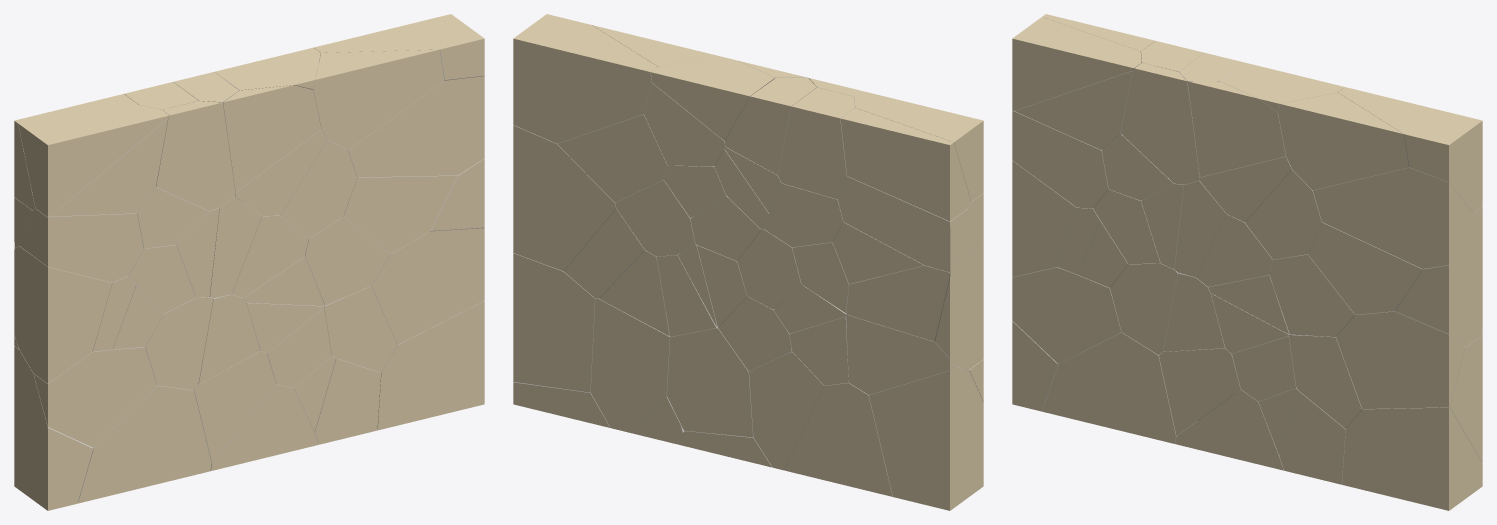
File: Wall01_frac.fbx
3 renders of one model, left to right at view 1: azimuth 30°, elevation 25°; view 2: azimuth 150°, elevation 25°; view 3: azimuth 330°, elevation 25°, orthographic.
Visible parts, largest first — view 1: Wall01_cell.031, Wall01_cell.019, Wall01_cell.027, Wall01_cell.026, Wall01_cell.013, Wall01_cell.011, Wall01_cell.023, Wall01_cell.022, Wall01_cell.053, Wall01_cell.010, Wall01_cell.008, Wall01_cell.024 (+29 smaller); view 2: Wall01_cell.033, Wall01_cell.053, Wall01_cell.044, Wall01_cell.045, Wall01_cell.059, Wall01_cell.046, Wall01_cell.049, Wall01_cell.052, Wall01_cell.056, Wall01_cell.057, Wall01_cell.048, Wall01_cell.064 (+29 smaller); view 3: Wall01_cell.027, Wall01_cell.031, Wall01_cell.026, Wall01_cell.019, Wall01_cell.013, Wall01_cell.011, Wall01_cell.022, Wall01_cell.033, Wall01_cell.010, Wall01_cell.008, Wall01_cell.044, Wall01_cell.016 (+29 smaller).
Part boxes in pixels (box(x1,y1,x2,y2)): Wall01_cell.031: box(347, 76, 484, 177); Wall01_cell.019: box(78, 385, 211, 503); Wall01_cell.027: box(377, 301, 484, 430); Wall01_cell.026: box(371, 228, 484, 344); Wall01_cell.013: box(313, 49, 444, 150); Wall01_cell.011: box(18, 104, 169, 216); Wall01_cell.023: box(14, 246, 112, 383); Wall01_cell.022: box(33, 347, 156, 447); Wall01_cell.053: box(14, 346, 93, 510); Wall01_cell.010: box(223, 85, 321, 192); Wall01_cell.008: box(156, 101, 235, 210); Wall01_cell.024: box(19, 208, 143, 282); Wall01_cell.033: box(513, 14, 657, 143); Wall01_cell.053: box(869, 366, 983, 510); Wall01_cell.044: box(513, 125, 616, 271); Wall01_cell.045: box(513, 253, 595, 392); Wall01_cell.059: box(840, 108, 970, 221); Wall01_cell.046: box(590, 298, 670, 433); Wall01_cell.049: box(667, 327, 753, 437); Wall01_cell.052: box(784, 382, 892, 496); Wall01_cell.056: box(838, 176, 968, 271); Wall01_cell.057: box(778, 87, 855, 199); Wall01_cell.048: box(749, 351, 824, 470); Wall01_cell.064: box(651, 55, 774, 140); Wall01_cell.027: box(1342, 407, 1482, 510); Wall01_cell.031: box(1313, 167, 1473, 268); Wall01_cell.026: box(1336, 311, 1464, 408); Wall01_cell.019: box(1042, 332, 1196, 443); Wall01_cell.013: box(1278, 92, 1408, 190); Wall01_cell.011: box(1012, 17, 1141, 110); Wall01_cell.022: box(1012, 267, 1121, 363); Wall01_cell.033: box(1338, 87, 1482, 213); Wall01_cell.010: box(1187, 81, 1285, 177); Wall01_cell.008: box(1120, 63, 1199, 184); Wall01_cell.044: box(1395, 207, 1482, 347); Wall01_cell.016: box(1308, 222, 1422, 314).
Size of the model in its own units: 300 by 240 by 40.
